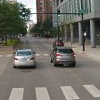crosswalk: (7, 83, 99, 100), (0, 53, 50, 57)
